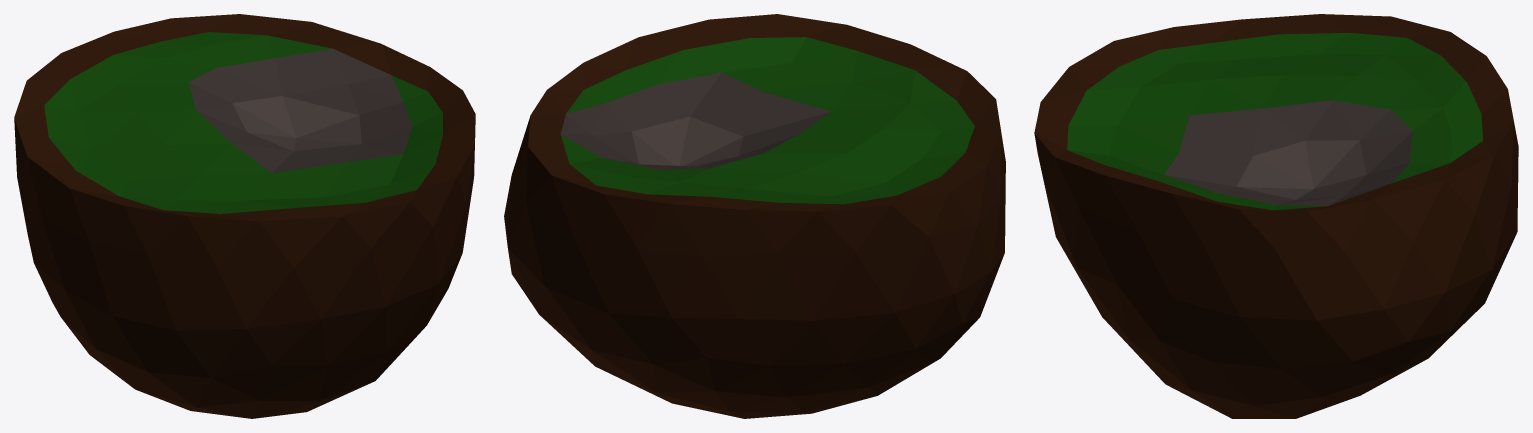
The model's file is ziemia 1.fbx.
3 views of the same model, side by side, from view 1: azimuth 30°, elevation 25°; view 2: azimuth 150°, elevation 25°; view 3: azimuth 270°, elevation 25° (orthographic). The views are drawn at different scales.
Visible parts, largest first — view 1: Icosphere; view 2: Icosphere; view 3: Icosphere.
Boxes of the visible parts, box(x1,y1,x2,y2) form: Icosphere: box(14, 14, 475, 418); Icosphere: box(504, 14, 1005, 418); Icosphere: box(1034, 14, 1518, 418).
Size of the model in its own units: 18.42 by 12.5 by 18.53.
